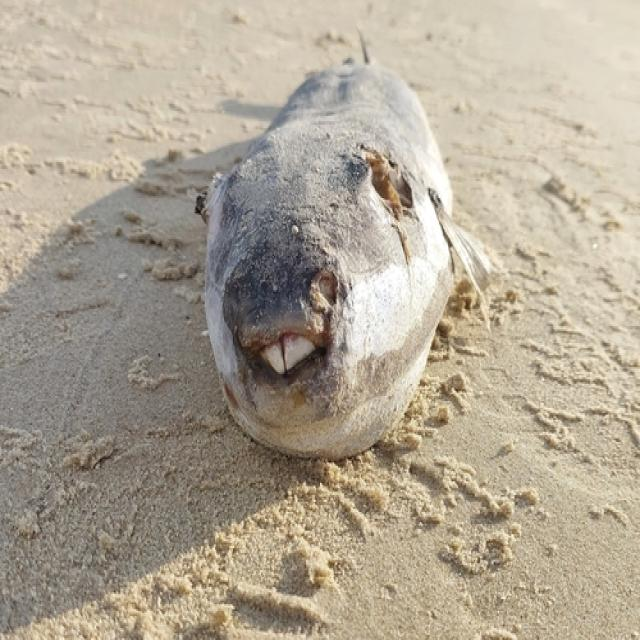Balik: (198, 62, 491, 459)
